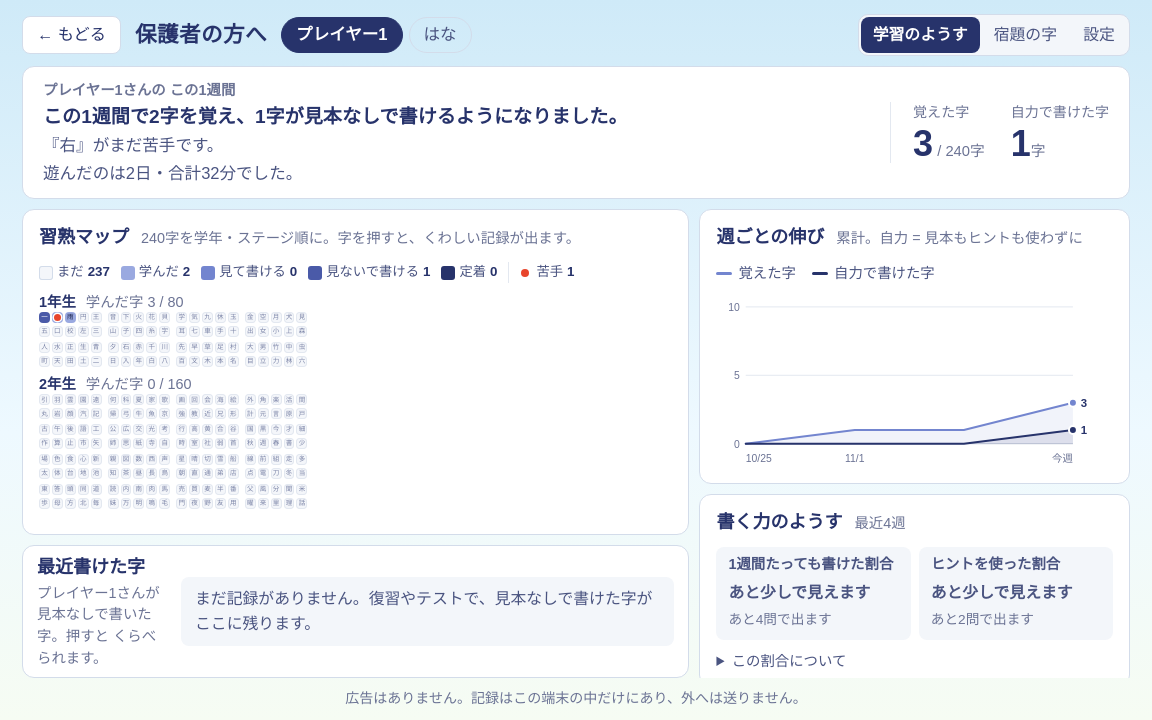
保護者の画面: 学習のようす › 子どもが2人以上いると、切りかえずに それぞれを見られる。ほかの子の字は 練習へ行かず 案内を出す
This screenshot has width=1152, height=720.
Click the tab "はな" at x=440, y=35, box x1=408 y1=17 x2=472 y2=53
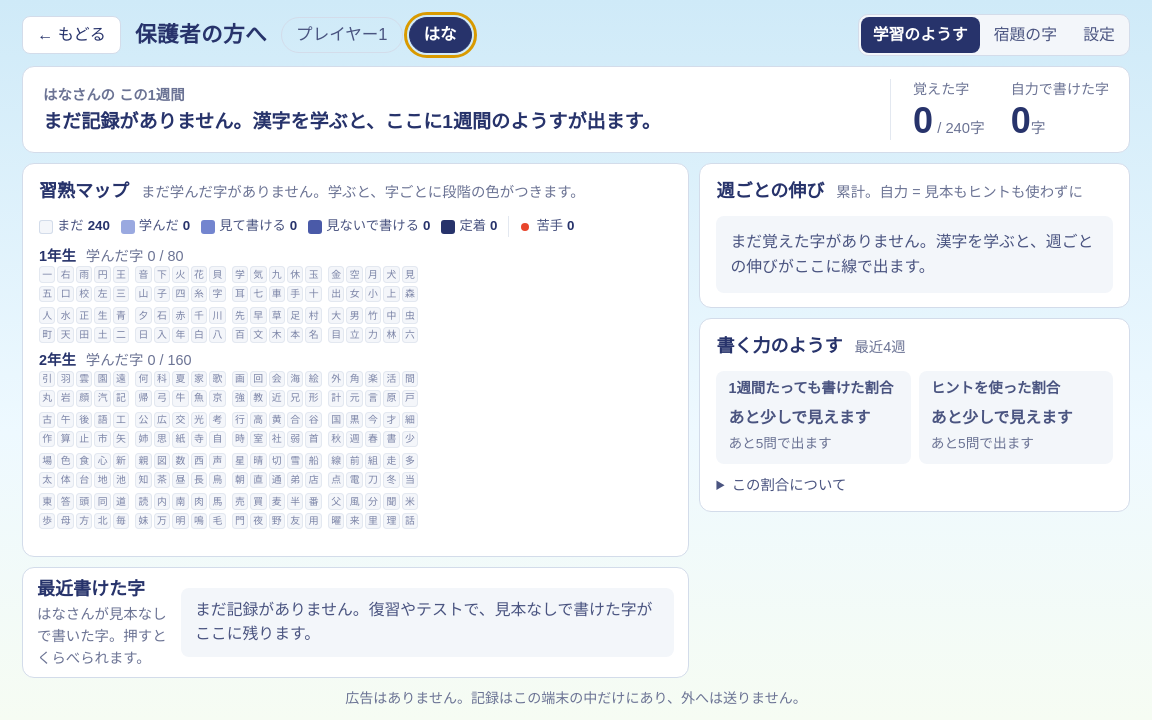
Expected: the element named "はなさんの まとめ" shows "まだ記録がありません", x1=43 y1=111 x2=661 y2=132
Expected: the element showing "0 / 240字" is shown, x1=913 y1=101 x2=985 y2=140
Expected: the element "週ごとの伸び" shows "まだ覚えた字がありません", x1=730 y1=233 x2=1093 y2=275
Click the button "一" at x=47, y=275, box x1=39 y1=266 x2=56 y2=283
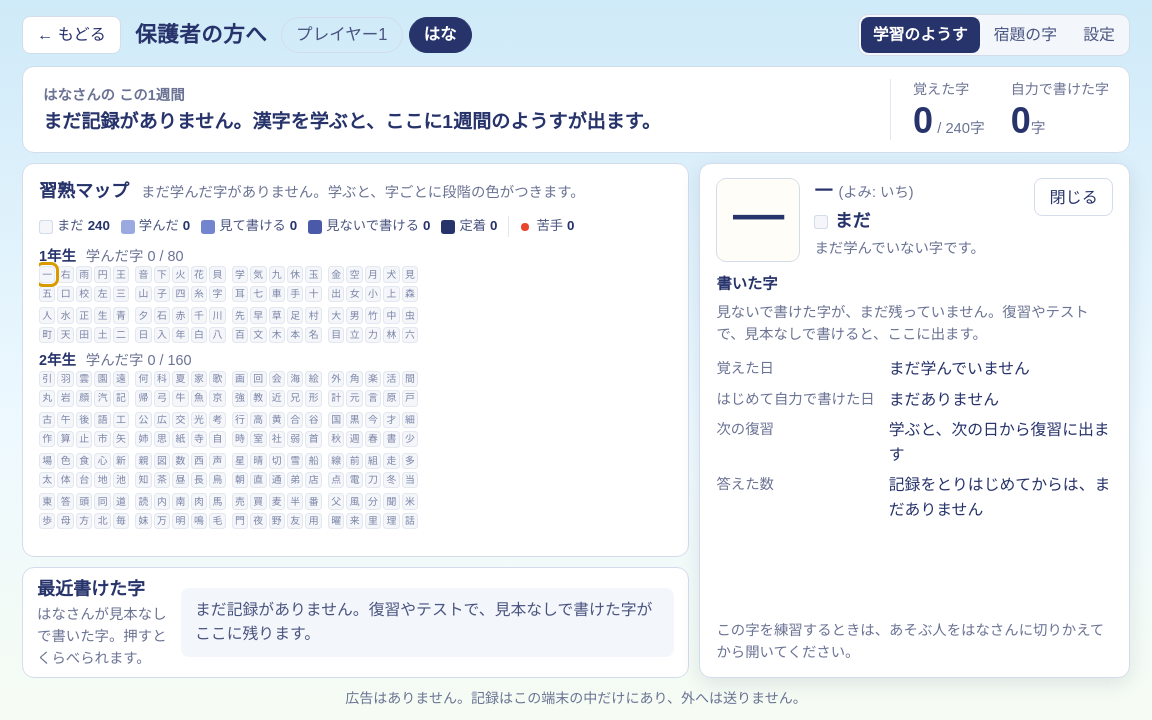
Expected: the text "この字を練習するときは、あそぶ人をはなさんに切りかえてから開いてください。" is shown, x1=716 y1=620 x2=1113 y2=663
